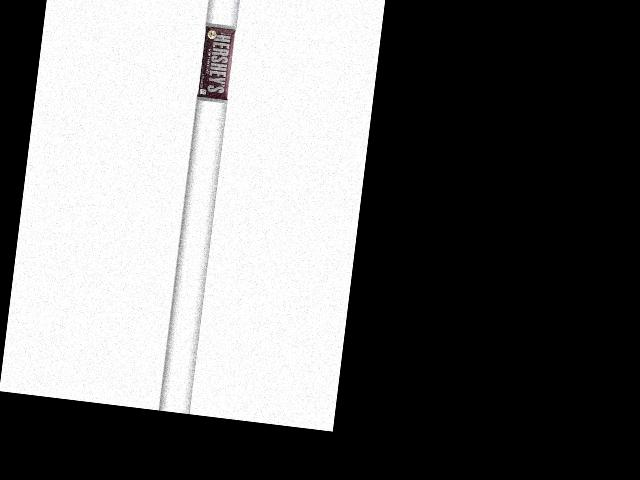chocolate: (192, 23, 235, 103)
